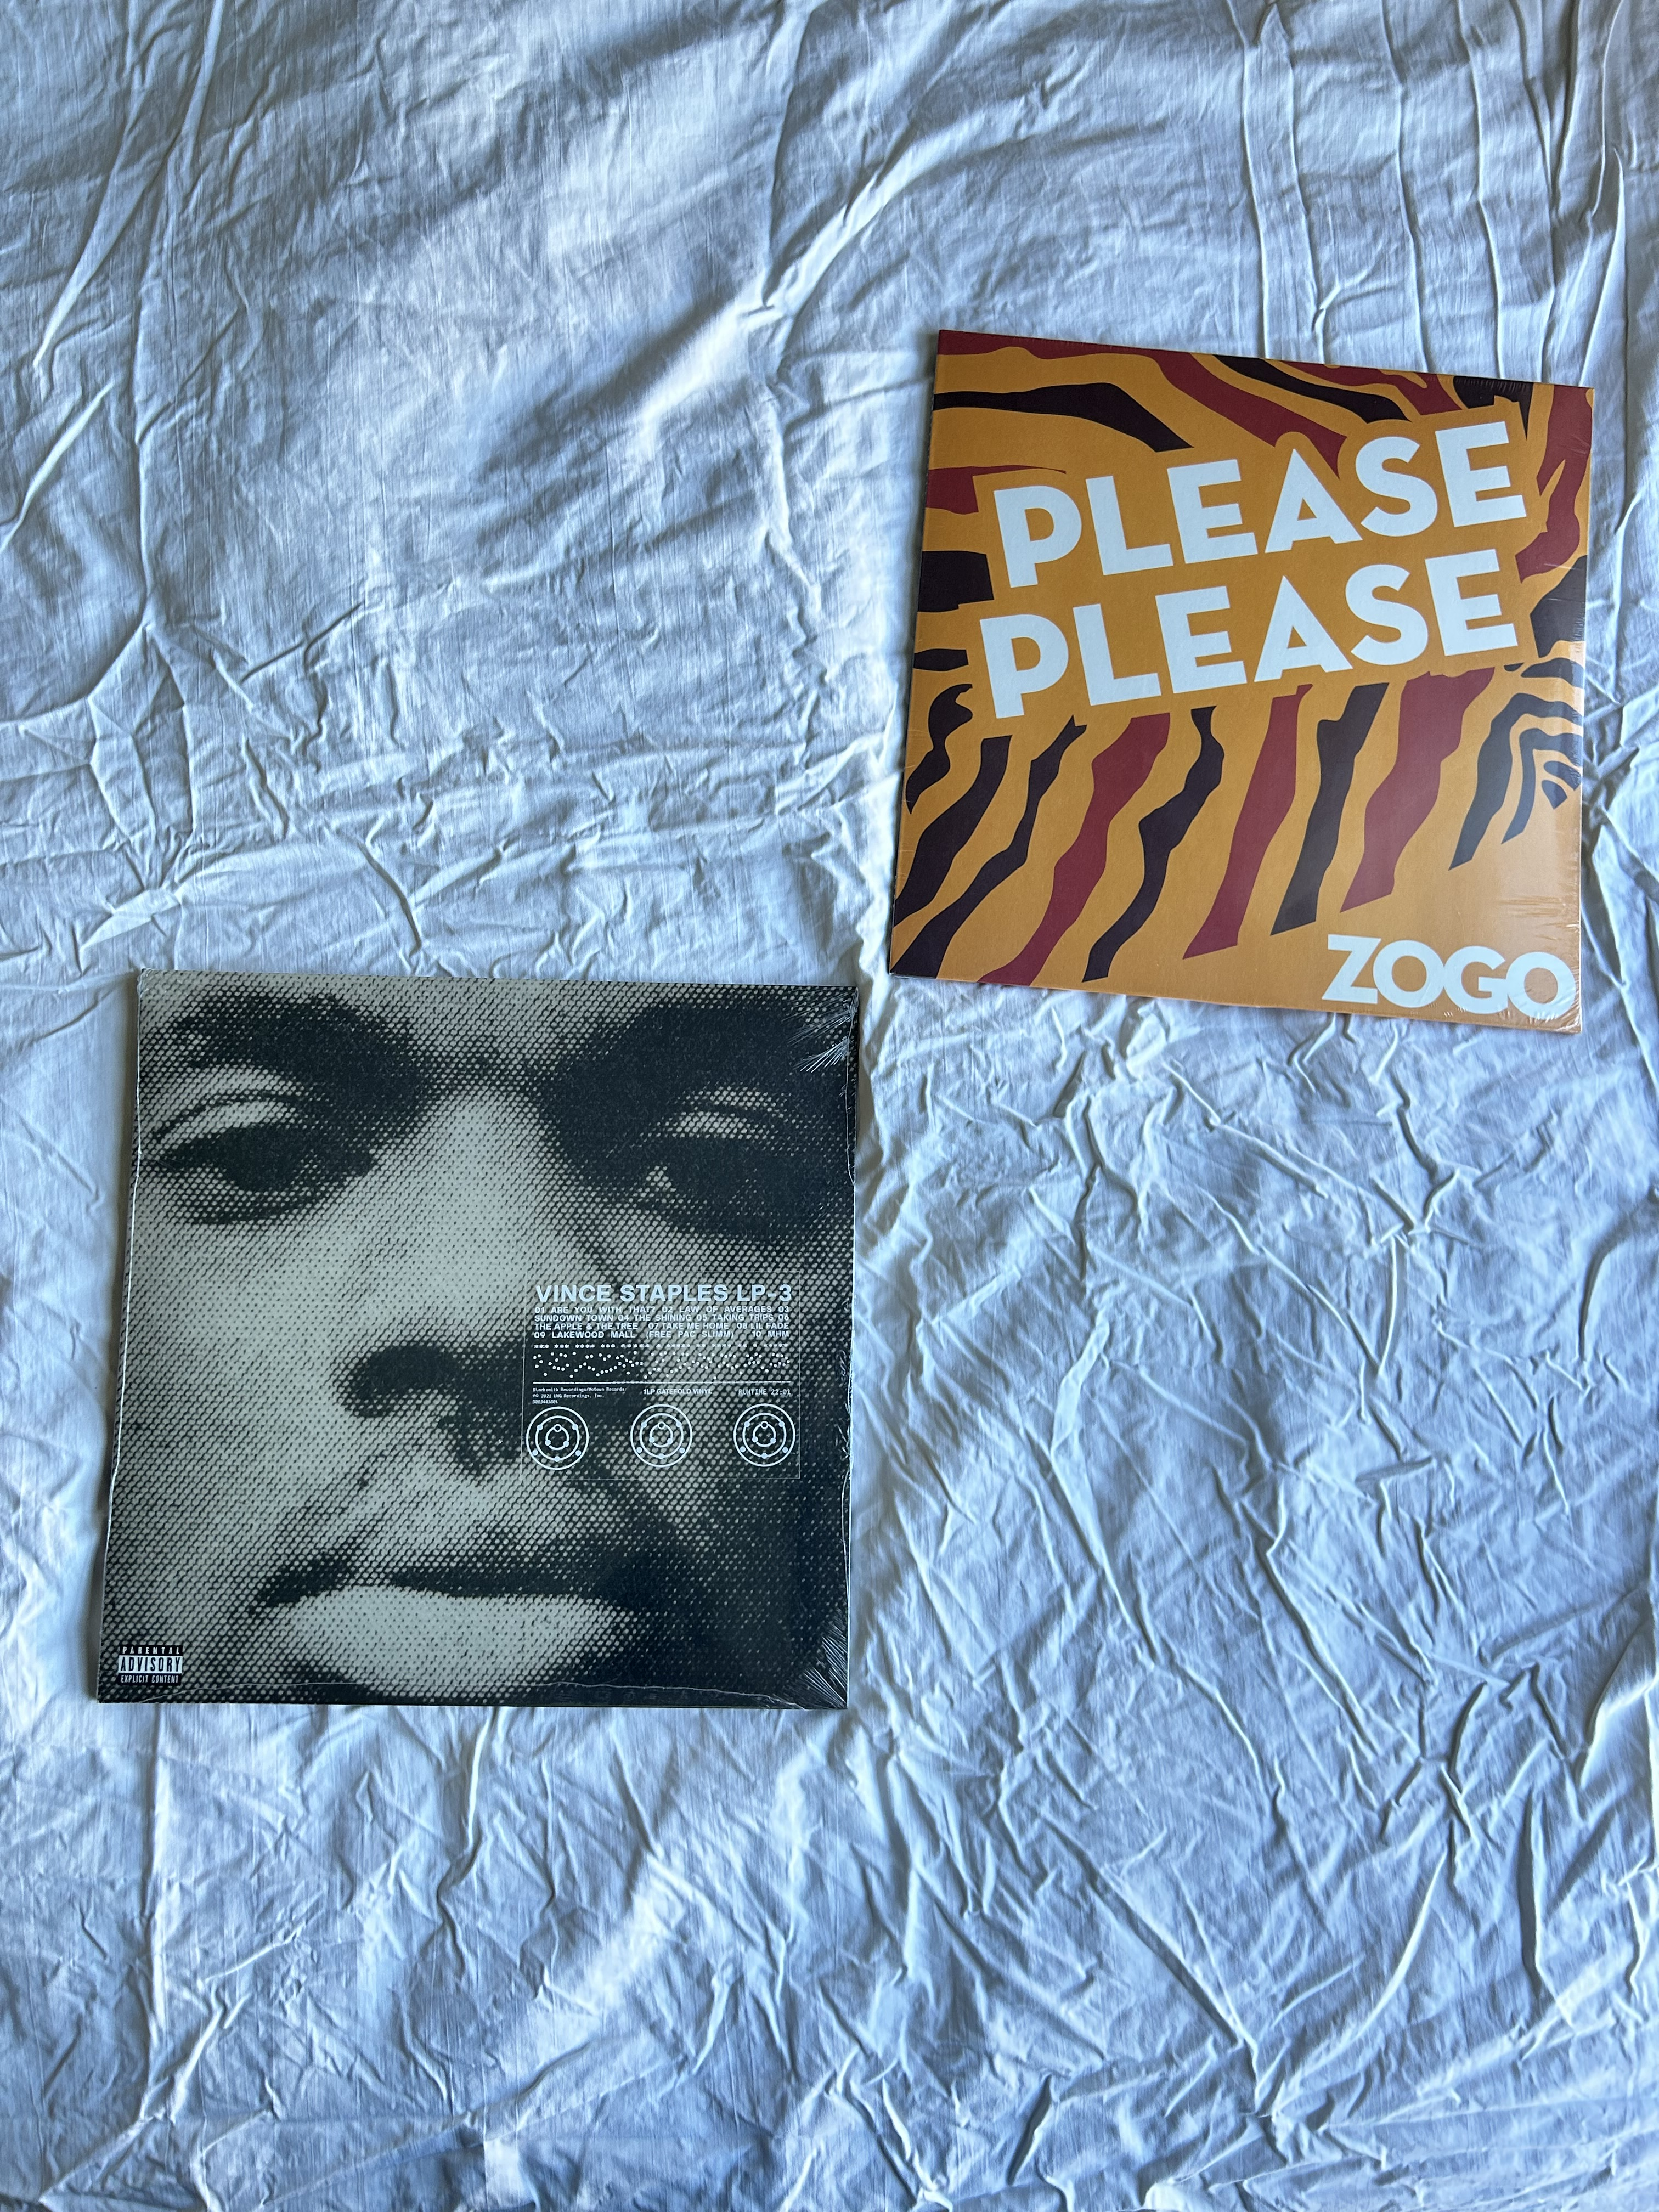vince staples_vince staples: (120, 942, 889, 1693)
zogo_please please: (929, 315, 1656, 979)
